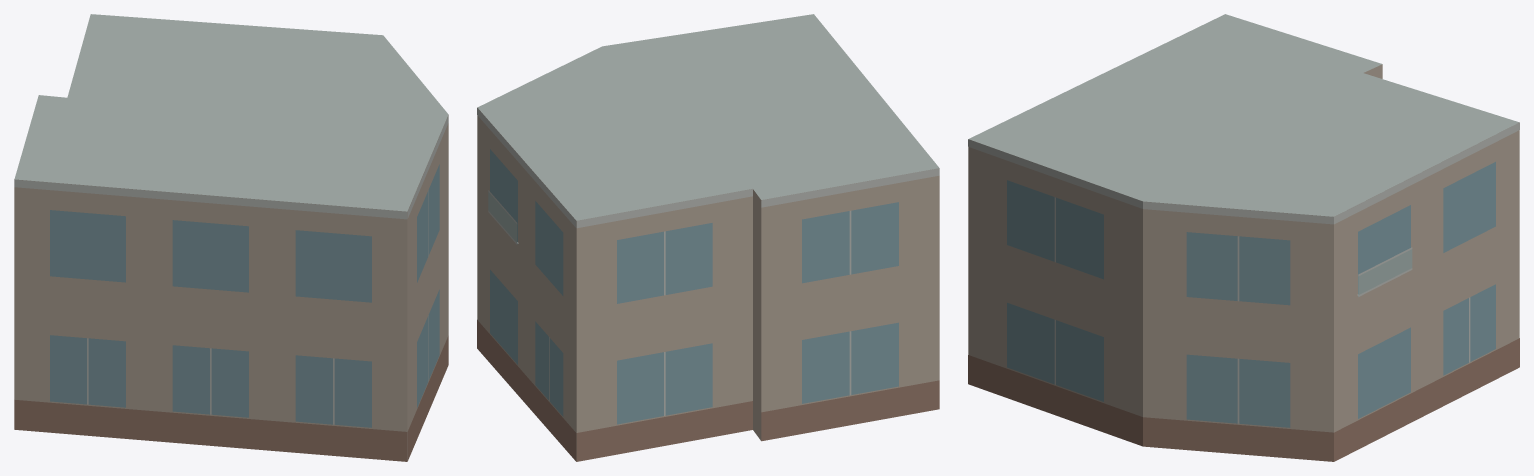
The model's file is survey-upis-32632517.glb.
3 views of the same model, side by side, from view 1: azimuth 30°, elevation 25°; view 2: azimuth 150°, elevation 25°; view 3: azimuth 270°, elevation 25° (orthographic). The views are drawn at different scales.
Parts seen in each view (by area): view 1: survey-upis-32632517.tmp; view 2: survey-upis-32632517.tmp; view 3: survey-upis-32632517.tmp.
Boxes of the visible parts, x1=… form: survey-upis-32632517.tmp: x1=14, y1=14, x2=448, y2=461; survey-upis-32632517.tmp: x1=477, y1=14, x2=939, y2=461; survey-upis-32632517.tmp: x1=968, y1=14, x2=1519, y2=461.
Size of the model in its own units: 13.85 by 7.8 by 15.92.
